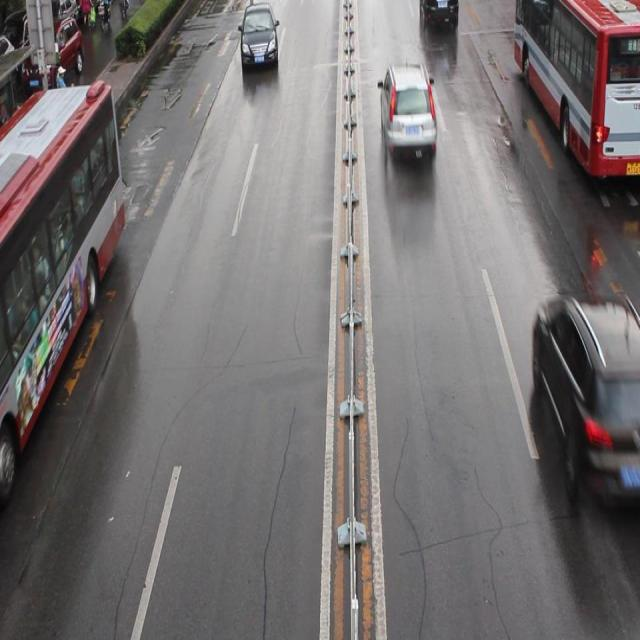car: (530, 303, 640, 505), (381, 65, 436, 152), (30, 20, 85, 94), (239, 1, 279, 69), (418, 1, 459, 31)
van: (1, 82, 124, 506), (512, 1, 640, 178)
